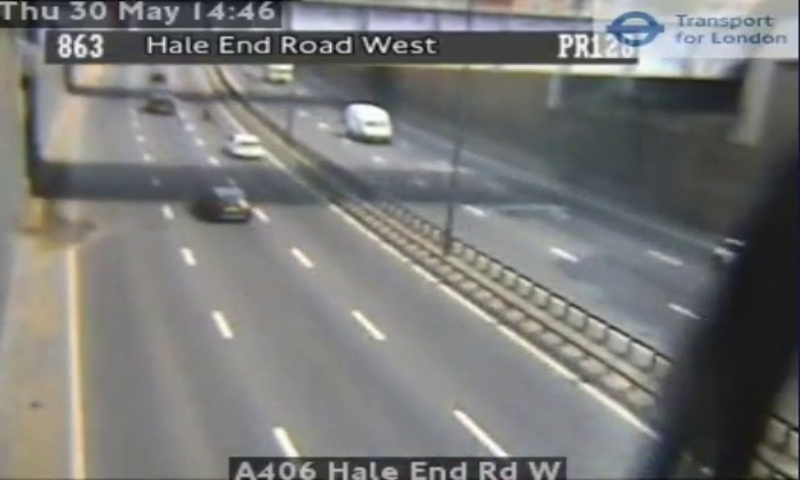car: (200, 186, 254, 218), (229, 135, 264, 157)
